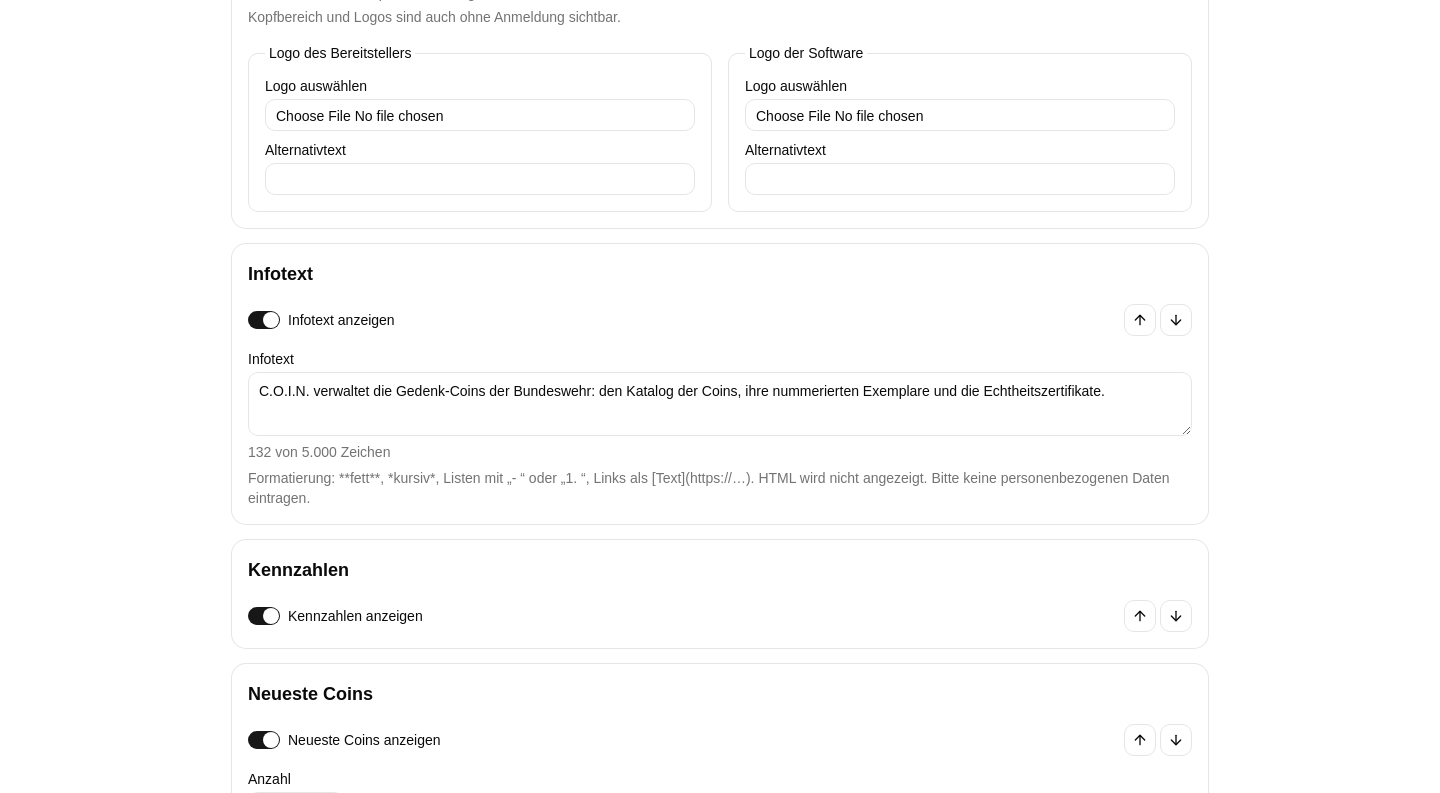
Test: Aufbau (AK-27) › aktualisiert den Zähler beim Tippen
(page scrolled)
Replace the text in the text box labelled "Infotext" with "Hallo": (720, 404) 248,372 -> 1192,436
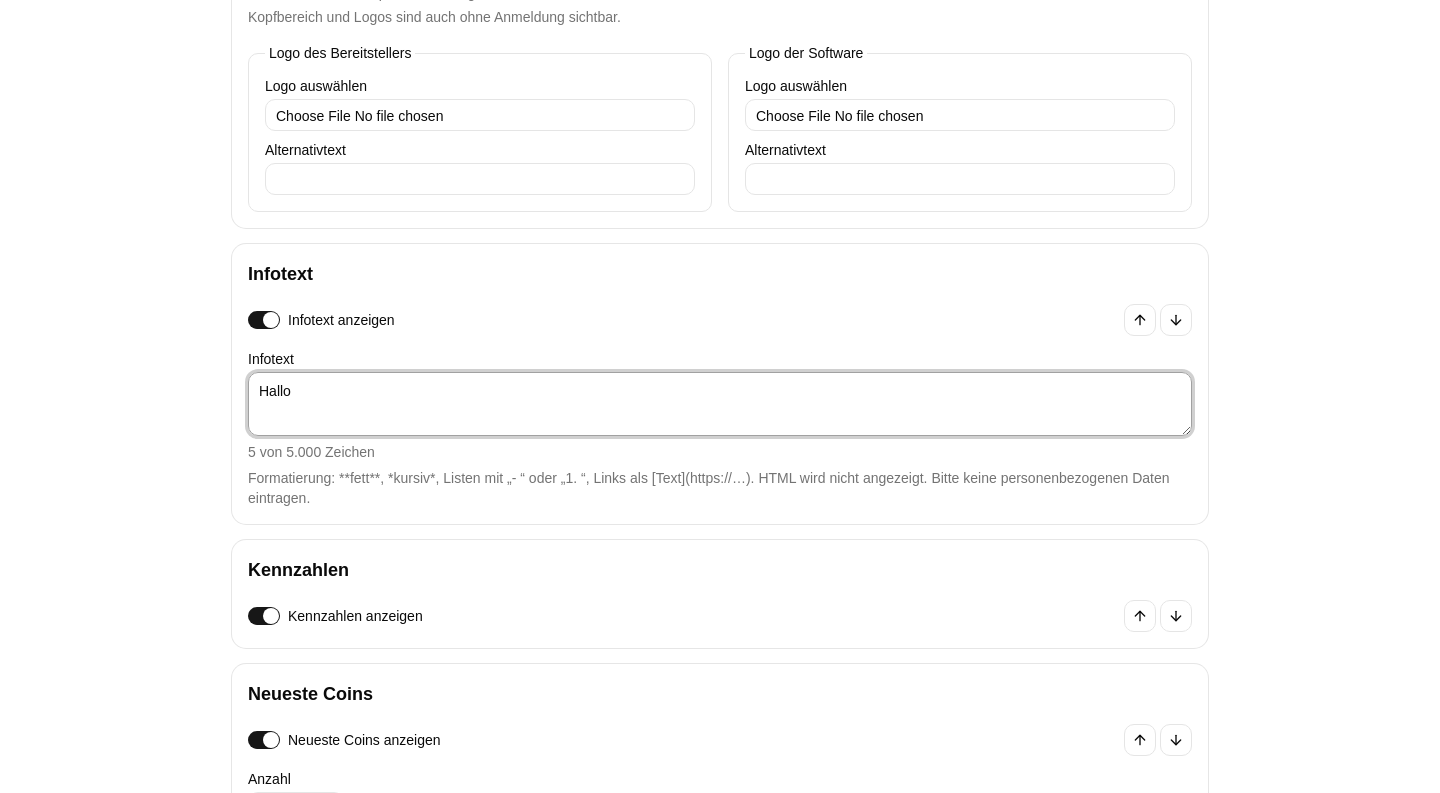
expect the text "5 von 5.000 Zeichen" is shown: met, box 248,444 -> 375,460
